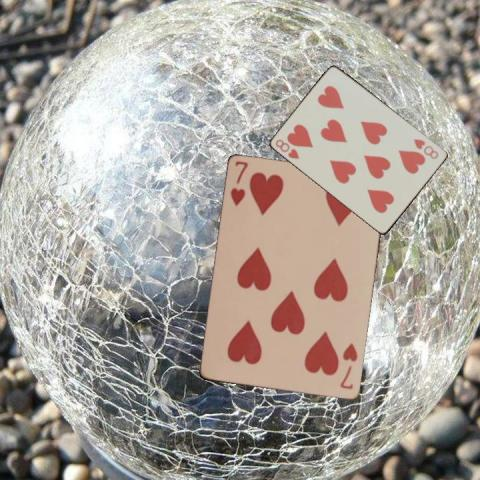7h: (338, 340, 360, 391), (228, 158, 250, 208)
8h: (411, 135, 440, 161), (272, 136, 300, 161)
